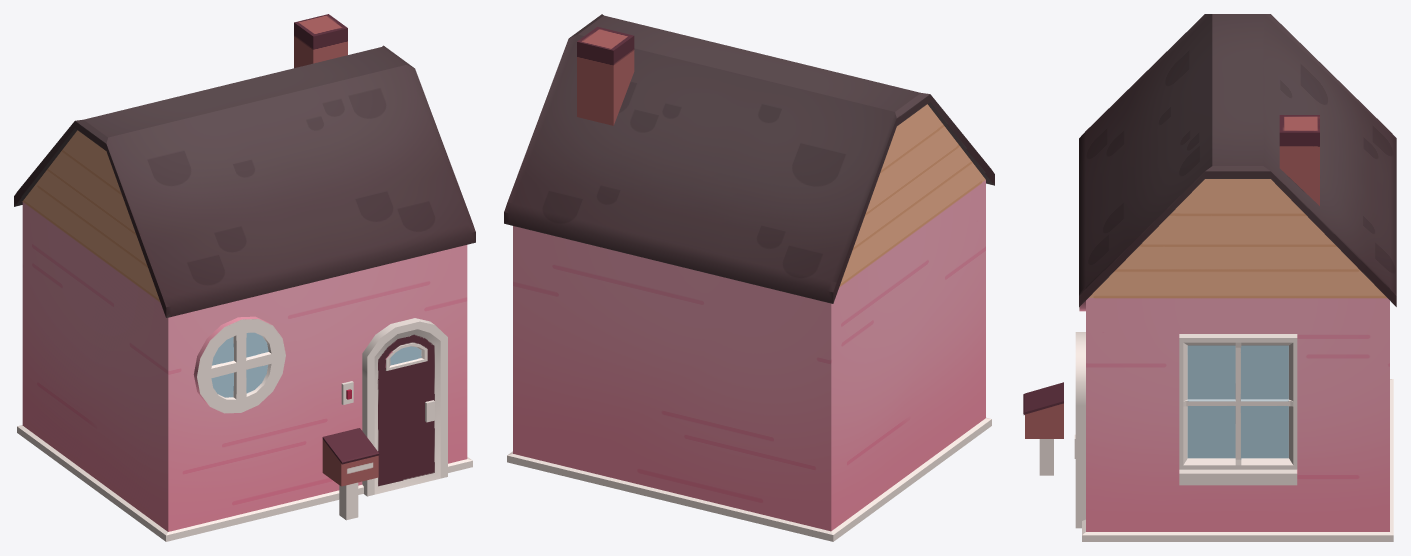
Rendered from house_1.fbx.
The picture shows the model from 3 angles, left to right: view 1: azimuth 30°, elevation 25°; view 2: azimuth 150°, elevation 25°; view 3: azimuth 270°, elevation 25°; orthographic projection. The views are drawn at different scales.
Parts seen in each view (by area): view 1: house1; view 2: house1; view 3: house1.
Part boxes in pixels (x1,y1,x2,y2): house1: (14, 14, 475, 541); house1: (504, 14, 994, 541); house1: (1023, 14, 1396, 541).
Bounding box in the file's own units: 5.23 × 5.92 × 5.06.
